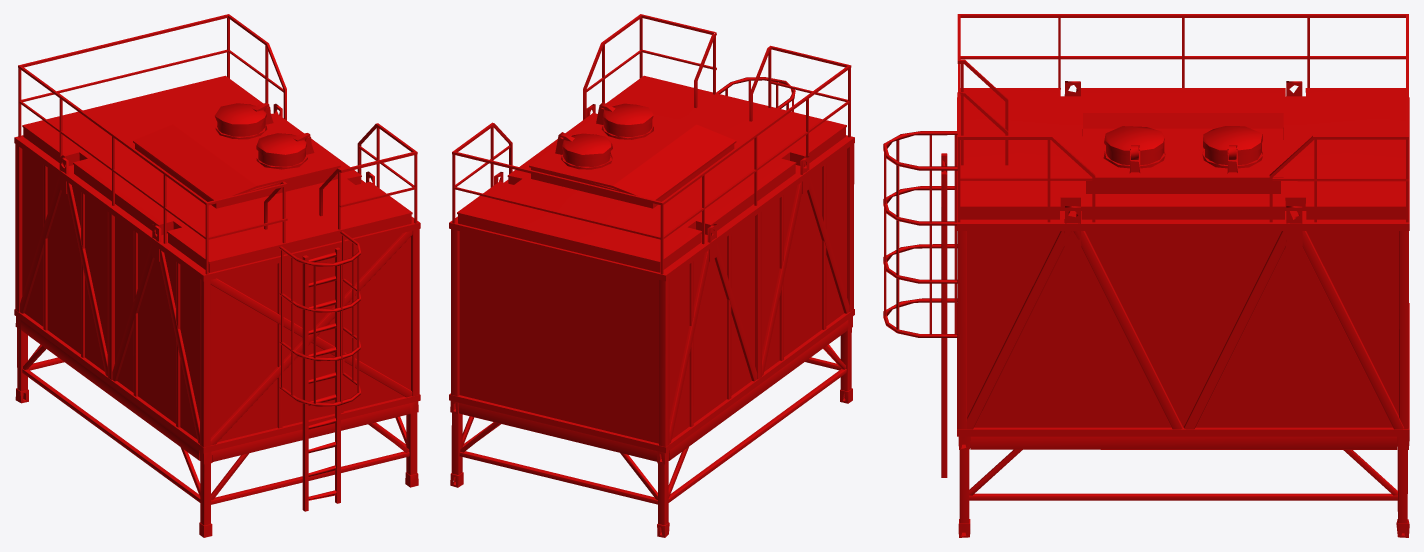
3 views of the same model, side by side, from view 1: azimuth 30°, elevation 25°; view 2: azimuth 150°, elevation 25°; view 3: azimuth 270°, elevation 25° (orthographic). The views are drawn at different scales.
Visible parts, largest first — view 1: Mesh; view 2: Mesh; view 3: Mesh.
Part boxes in pixels (x1,y1,x2,y2): Mesh: [14, 14, 420, 537]; Mesh: [449, 14, 854, 537]; Mesh: [883, 14, 1409, 537].
Size of the model in its own units: 3.74 by 5.52 by 6.57.
